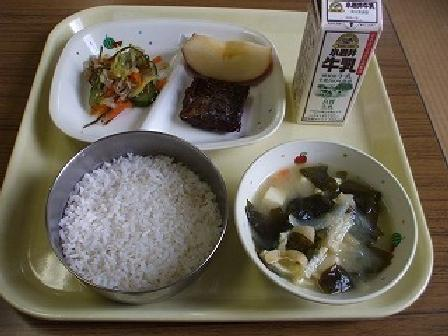Apple: (170, 23, 280, 80)
Milk: (286, 3, 385, 125)
Rice: (51, 135, 230, 294)
Salad: (73, 40, 162, 125)
Soups: (237, 144, 416, 306)
fried meat: (173, 74, 253, 138)
